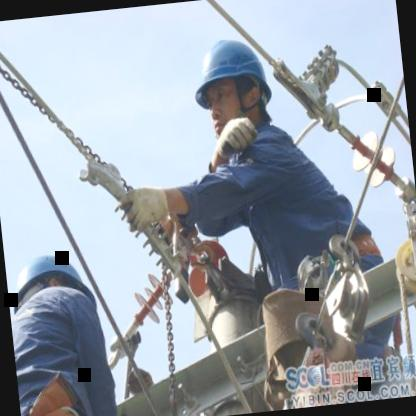helmet: (182, 21, 277, 148), (12, 250, 100, 338)
